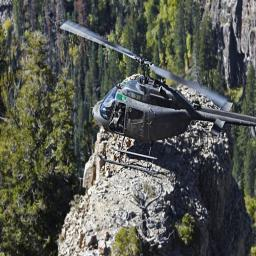helicopter: (62, 21, 256, 175)
